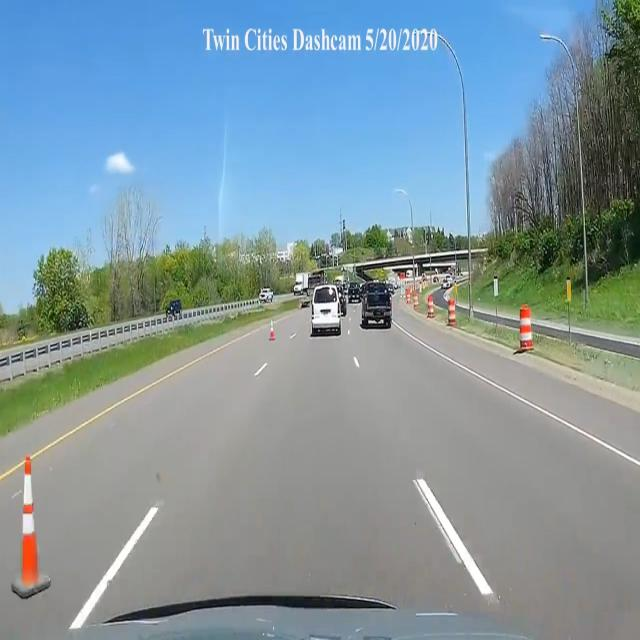cone: (18, 454, 40, 589), (270, 323, 279, 344)
